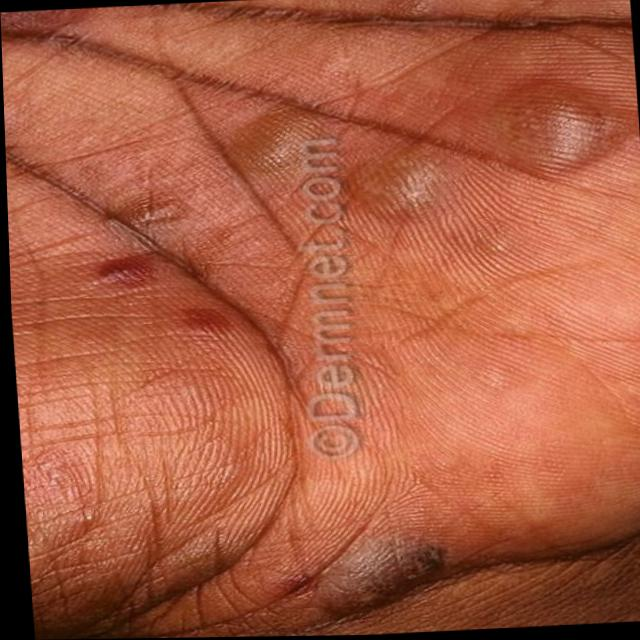Eczema: (57, 63, 640, 403), (302, 538, 434, 610)
